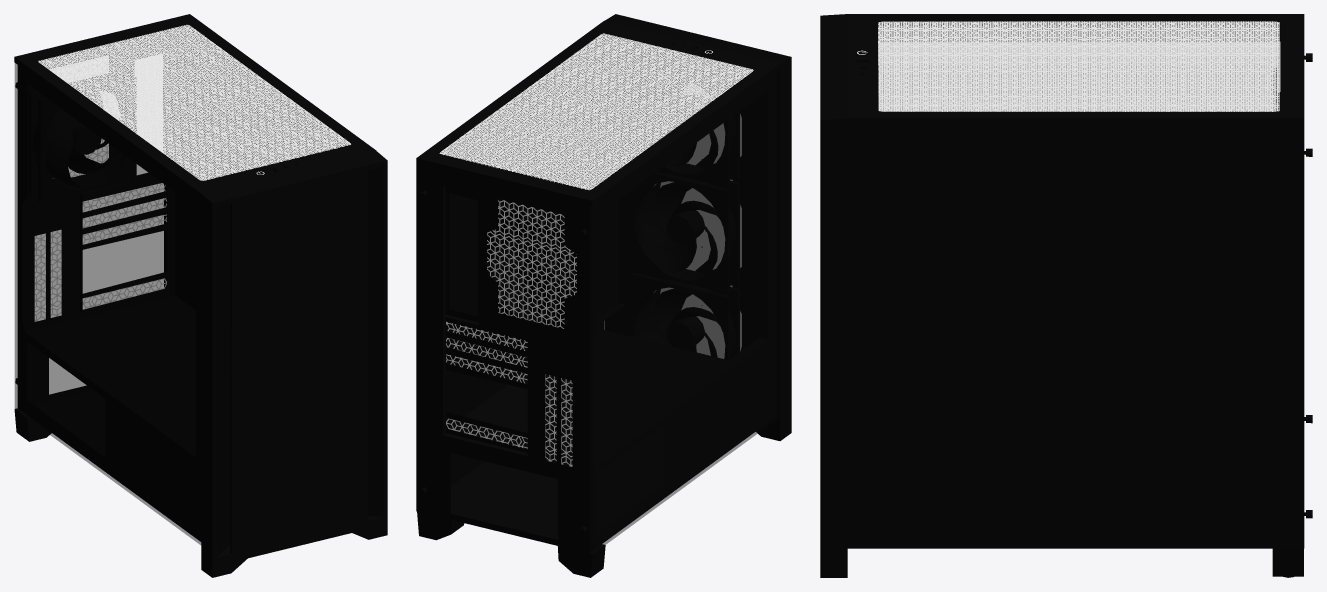
Rendered from case_final.glb.
3 views of the same model, side by side, from view 1: azimuth 30°, elevation 25°; view 2: azimuth 150°, elevation 25°; view 3: azimuth 270°, elevation 25° (orthographic). The views are drawn at different scales.
Parts seen in each view (by area): view 1: front, glass, inside, case, top, back, fan_case.001, fan.003; view 2: glass, case, inside, back, top, front, fan_case.004, fan.001, fan.003, fan, fan_case.002, fan_case.005 (+3 smaller); view 3: case, top, front, glass.
Boxes of the visible parts, left/top/right/bottom form: front: left=201, top=151, right=387, bottom=577; glass: left=15, top=63, right=200, bottom=544; inside: left=25, top=26, right=341, bottom=523; case: left=14, top=14, right=376, bottom=541; top: left=38, top=24, right=350, bottom=180; back: left=15, top=24, right=189, bottom=409; fan_case.001: left=29, top=69, right=136, bottom=202; fan.003: left=43, top=91, right=122, bottom=187; glass: left=590, top=70, right=779, bottom=553; case: left=416, top=21, right=780, bottom=577; inside: left=446, top=40, right=767, bottom=482; back: left=428, top=166, right=592, bottom=553; top: left=439, top=33, right=753, bottom=190; front: left=604, top=14, right=791, bottom=440; fan_case.004: left=631, top=171, right=739, bottom=293; fan.001: left=636, top=182, right=720, bottom=274; fan.003: left=489, top=225, right=575, bottom=318; fan: left=636, top=288, right=719, bottom=357; fan_case.002: left=631, top=53, right=739, bottom=187; fan_case.005: left=631, top=273, right=739, bottom=359; case: left=847, top=14, right=1312, bottom=577; top: left=878, top=21, right=1279, bottom=111; front: left=820, top=14, right=847, bottom=577; glass: left=878, top=42, right=1280, bottom=110.
Size of the model in its own units: 0.2302 by 0.4734 by 0.4577.
Materials: 12 (4 with a texture image).
